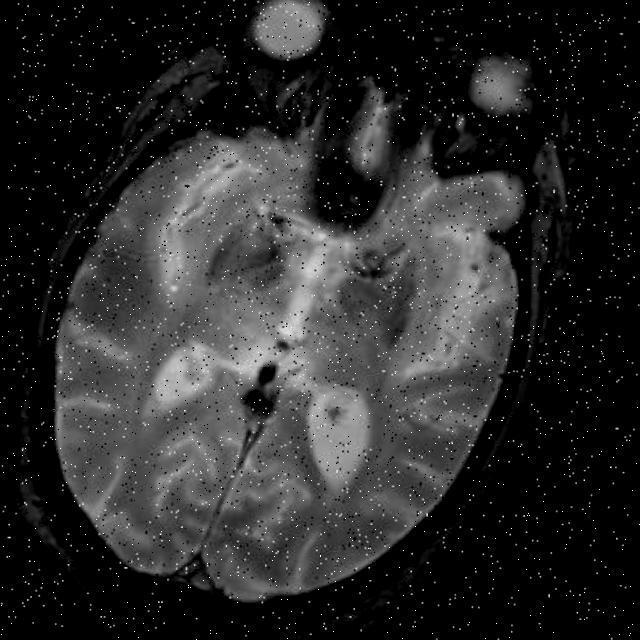CN: (131, 122, 259, 346), (156, 328, 232, 423), (305, 380, 374, 467), (439, 222, 506, 301)
